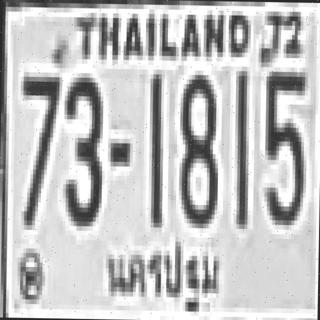N01: (146, 70, 163, 222), (232, 68, 248, 226)
N03: (63, 73, 101, 222)
N05: (264, 67, 305, 220)
N07: (20, 72, 58, 226)
N08: (178, 70, 217, 224)
P28: (99, 231, 225, 320)
